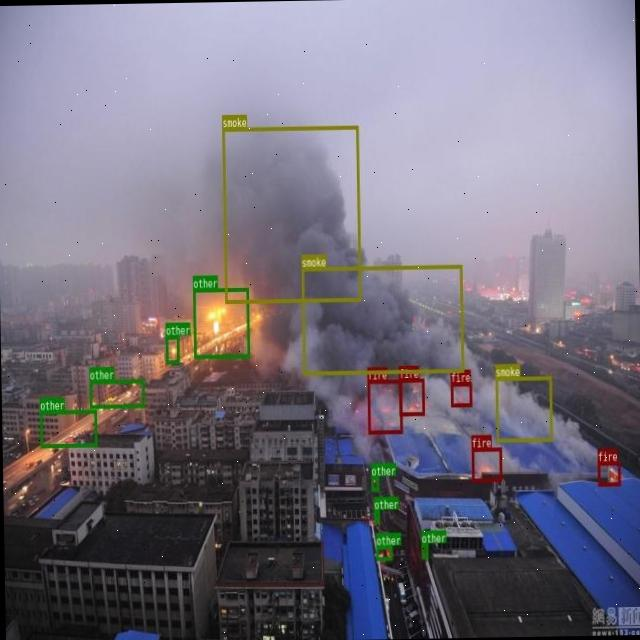fire: (367, 378, 402, 434), (471, 446, 501, 481), (398, 378, 424, 414), (596, 461, 620, 485), (451, 382, 472, 406)
smoke: (222, 125, 361, 302), (301, 264, 463, 374), (495, 375, 552, 441)
